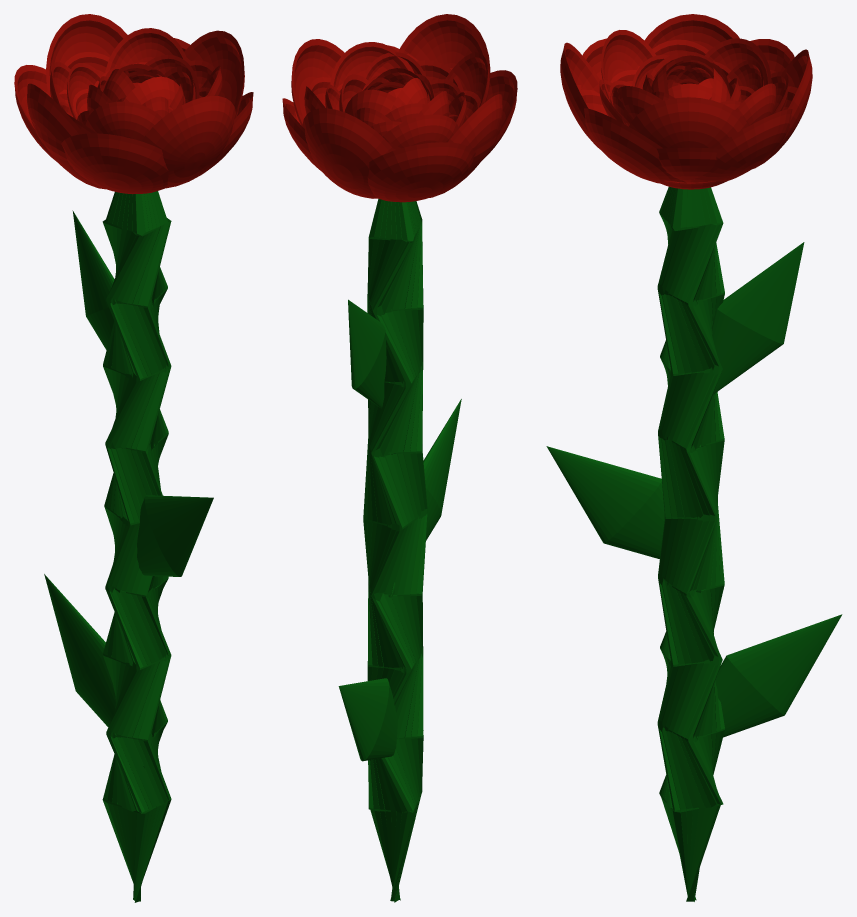
File: Rose.fbx
The picture shows the model from 3 angles, left to right: view 1: azimuth 30°, elevation 25°; view 2: azimuth 150°, elevation 25°; view 3: azimuth 270°, elevation 25°; orthographic projection.
Parts seen in each view (by area): view 1: Cube, Sphere, Sphere.001, Leaf.002, Leaf.001, Leaf, Sphere.002; view 2: Cube, Sphere, Sphere.001, Leaf.001, Leaf, Leaf.002, Sphere.002; view 3: Cube, Sphere, Sphere.001, Leaf.001, Leaf.002, Leaf, Sphere.002.
Part boxes in pixels (box(x1,y1,x2,y2)): Cube: box(102, 191, 171, 902); Sphere: box(14, 14, 253, 194); Sphere.001: box(50, 28, 222, 140); Leaf.002: box(137, 495, 213, 576); Leaf.001: box(44, 574, 144, 767); Leaf: box(72, 210, 114, 349); Sphere.002: box(60, 54, 210, 125); Cube: box(363, 198, 427, 902); Sphere: box(282, 14, 517, 202); Sphere.001: box(304, 42, 489, 150); Leaf.001: box(338, 678, 397, 761); Leaf: box(348, 299, 386, 408); Leaf.002: box(391, 399, 461, 597); Sphere.002: box(325, 52, 466, 136); Cube: box(657, 186, 724, 901); Sphere: box(560, 14, 812, 189); Sphere.001: box(599, 30, 788, 126); Leaf.001: box(715, 614, 842, 737); Leaf.002: box(546, 446, 664, 559); Leaf: box(711, 242, 804, 394); Sphere.002: box(609, 54, 763, 125).
Bounding box in the file's own units: 317 × 1325 × 416.
